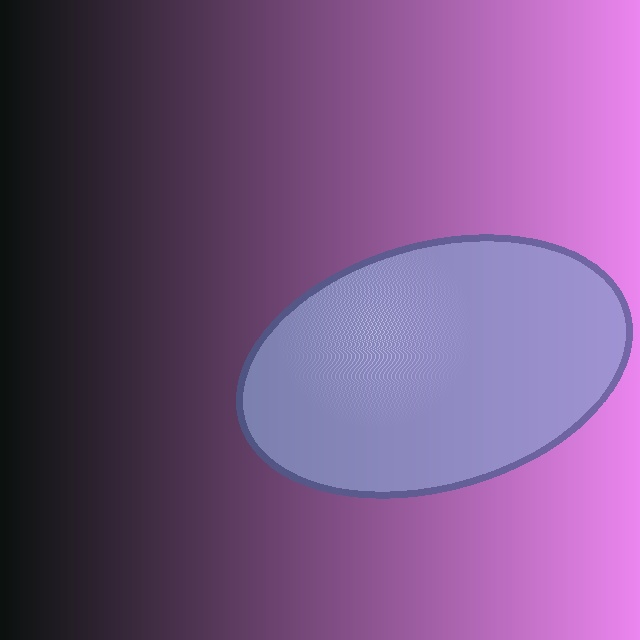lens: (240, 238, 628, 494)
